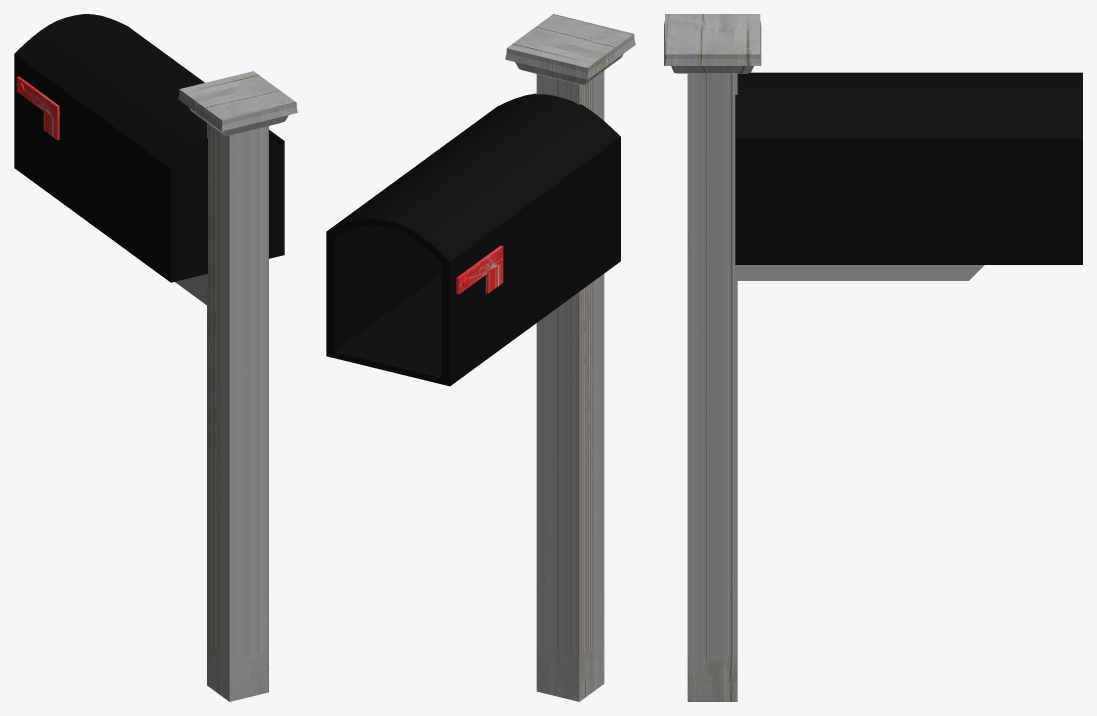
Rendered from Mailbox.glb.
3 renders of one model, left to right at view 1: azimuth 30°, elevation 25°; view 2: azimuth 150°, elevation 25°; view 3: azimuth 270°, elevation 25°, orthographic. The views are drawn at different scales.
Parts seen in each view (by area): view 1: Cube.002; view 2: Cube.002; view 3: Cube.002.
Part boxes in pixels (left/top/right/bottom): Cube.002: left=14, top=14, right=297, bottom=701; Cube.002: left=326, top=14, right=635, bottom=701; Cube.002: left=664, top=14, right=1082, bottom=701.
Bounding box in the file's own units: 0.8448 × 4.04 × 2.34.
Materials: 3 (3 with a texture image).
